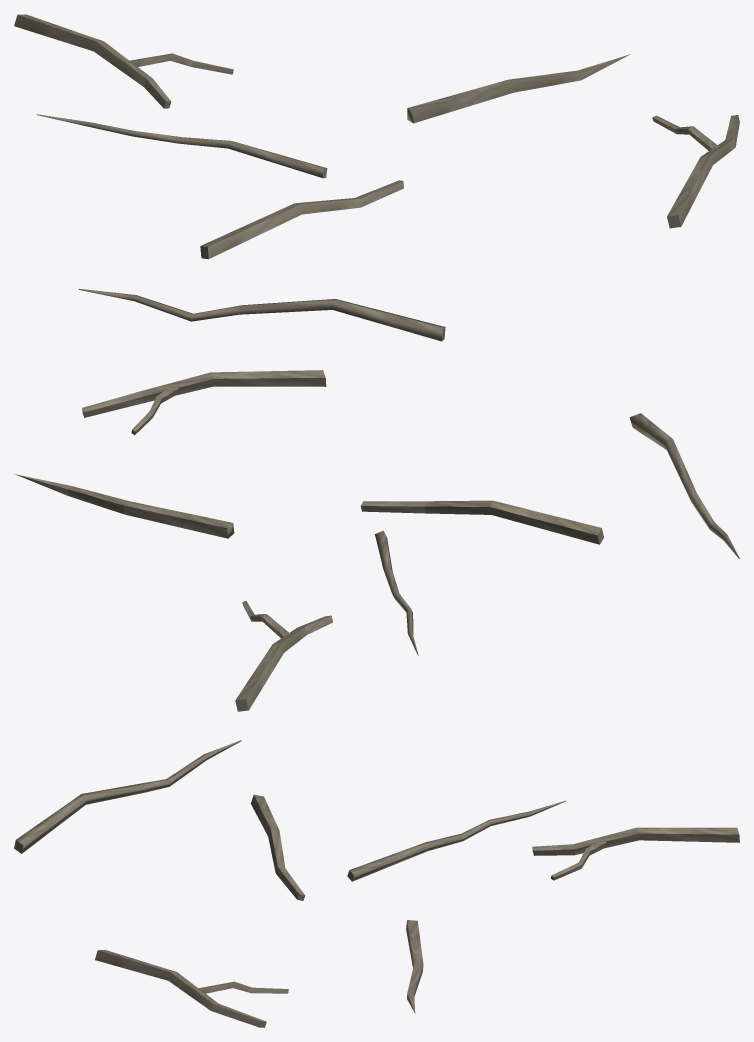
File: Tree branch_A.fbx
3 views of the same model, one above another, from view 1: azimuth 30°, elevation 25°; view 2: azimuth 150°, elevation 25°; view 3: azimuth 270°, elevation 25° (orthographic). The views are drawn at different scales.
Visible parts, largest first — view 1: Tree_branch_A; view 2: Tree_branch_A; view 3: Tree_branch_A.
Part boxes in pixels (bbox=[...]): Tree_branch_A: bbox=[14, 14, 739, 341]; Tree_branch_A: bbox=[15, 370, 739, 711]; Tree_branch_A: bbox=[14, 740, 739, 1027].
Size of the model in its own units: 266 by 14.37 by 288.
1 material, 1 textured.
